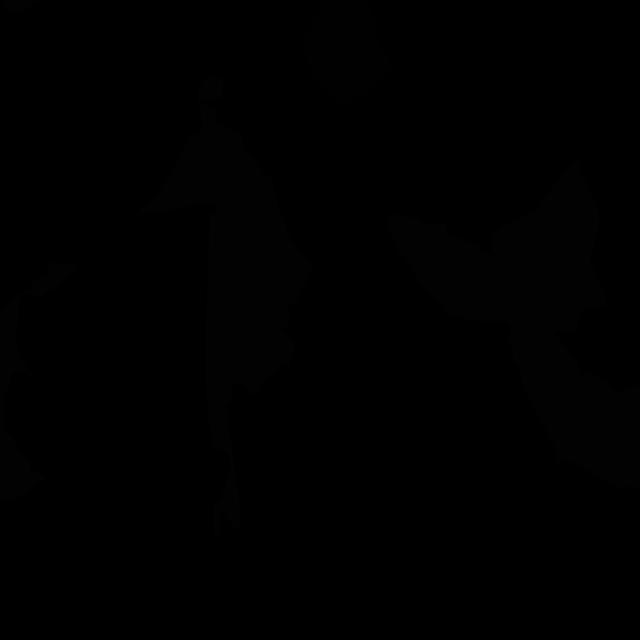cardboard: (132, 76, 314, 375), (491, 160, 640, 490), (204, 313, 296, 535), (0, 261, 77, 499), (387, 214, 528, 332), (0, 0, 38, 13)
rigid_plastic: (301, 0, 392, 105)
